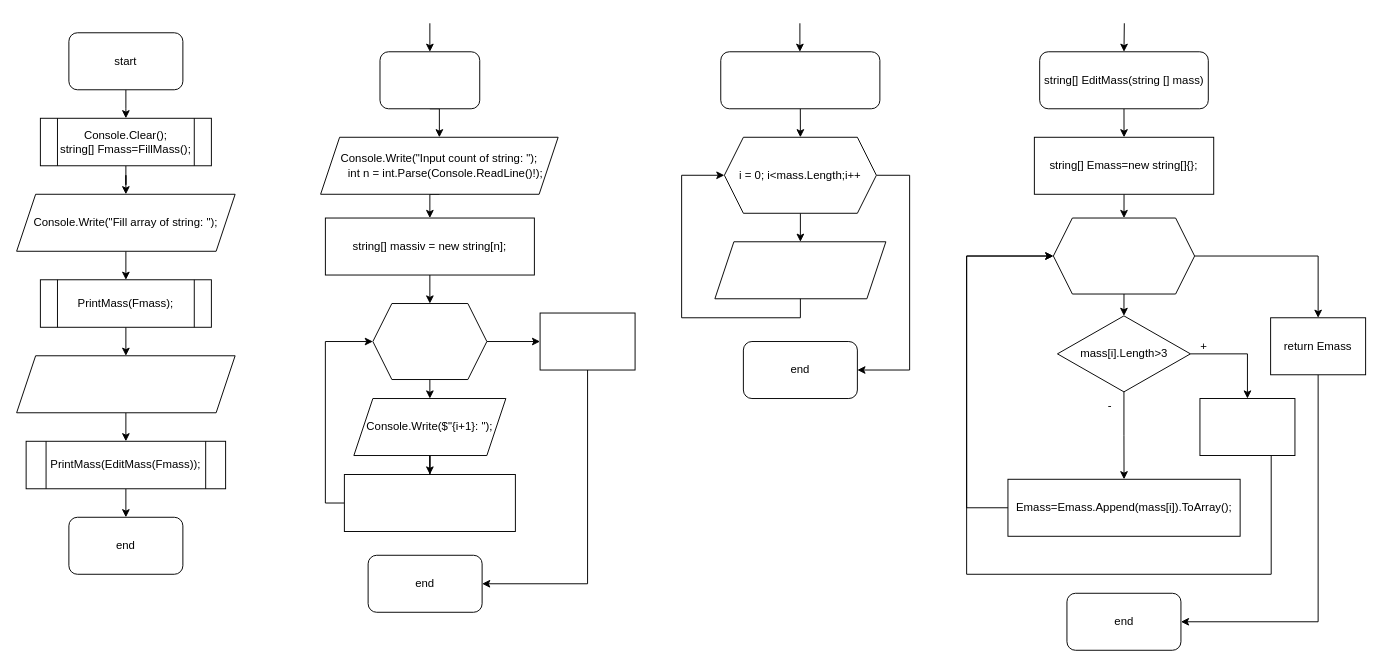
Image size: 1382x667. Some labels were removed from this diagram. Here are the shapes that lost their labels. From the top down, the centre of each, then its label:
[429,80]: string[] FillMass()
[800,80]: void PrintMass(string [] mass)
[800,270]: Console.Write($"{mass[i]} ");
[1123,255]: i = 0; i < mass.Length; i++
[429,341]: i = 0; i < n; i++
[587,341]: return massiv
[125,384]: Console.Write("Result: ");
[1247,427]: continue
[429,503]: massiv[i] = Console.ReadLine();
